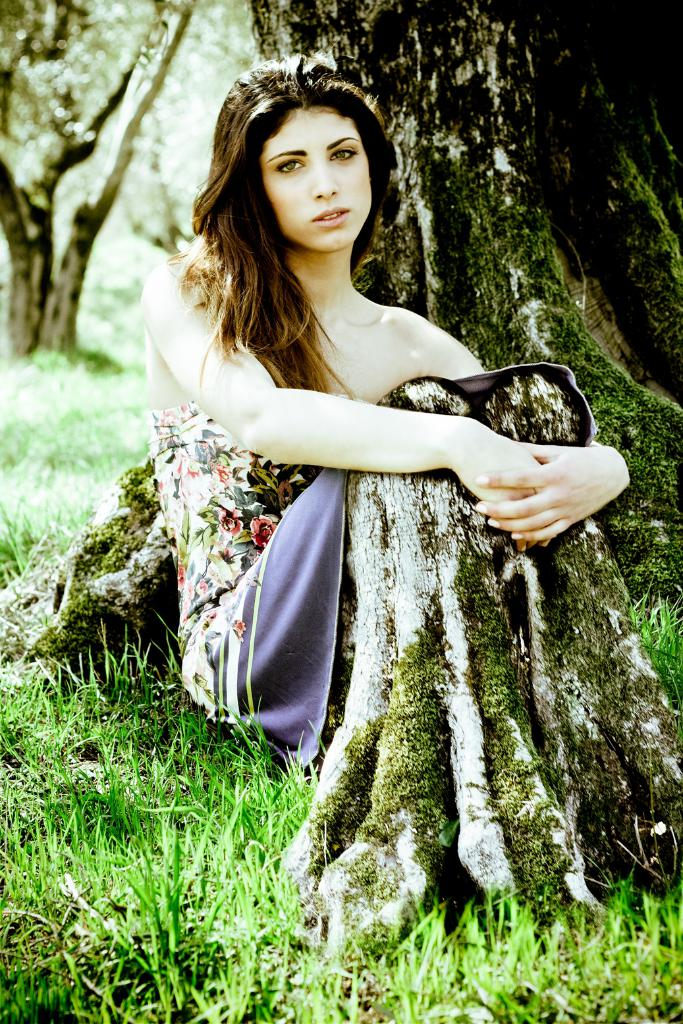Human_hand: (454, 421, 545, 505)
